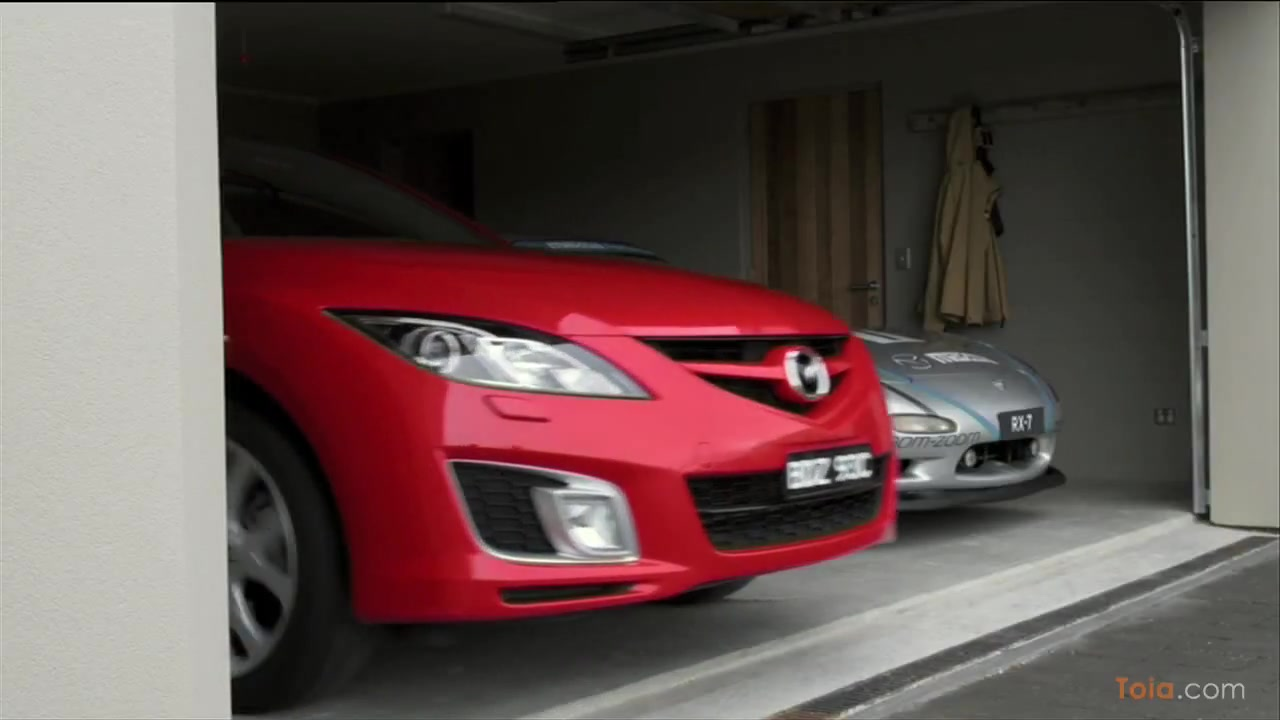car: (220, 127, 903, 720)
